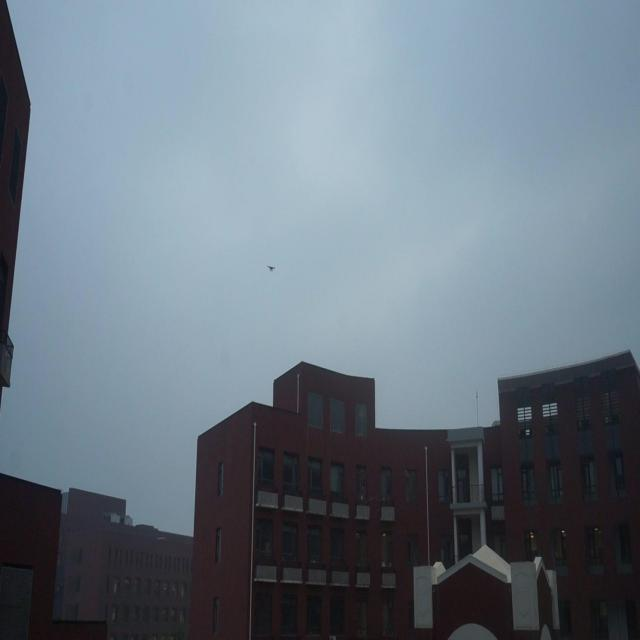UAV: (267, 265, 275, 272)
